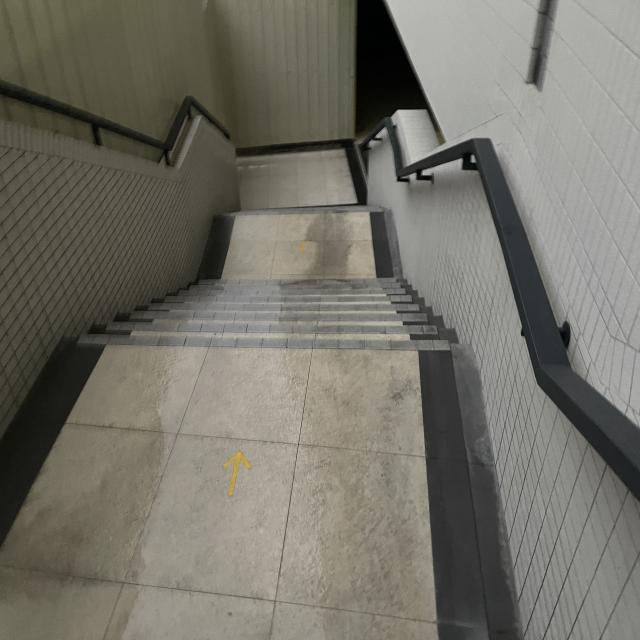Stairs: (70, 223, 463, 380), (194, 168, 390, 330)
